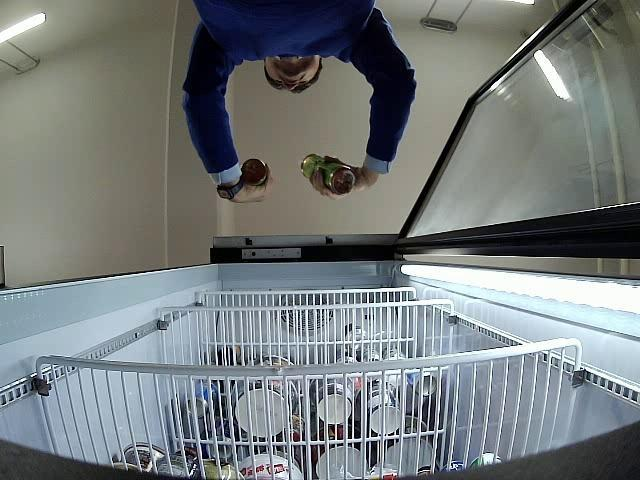19_17cha: (296, 153, 354, 196), (242, 156, 268, 188)
